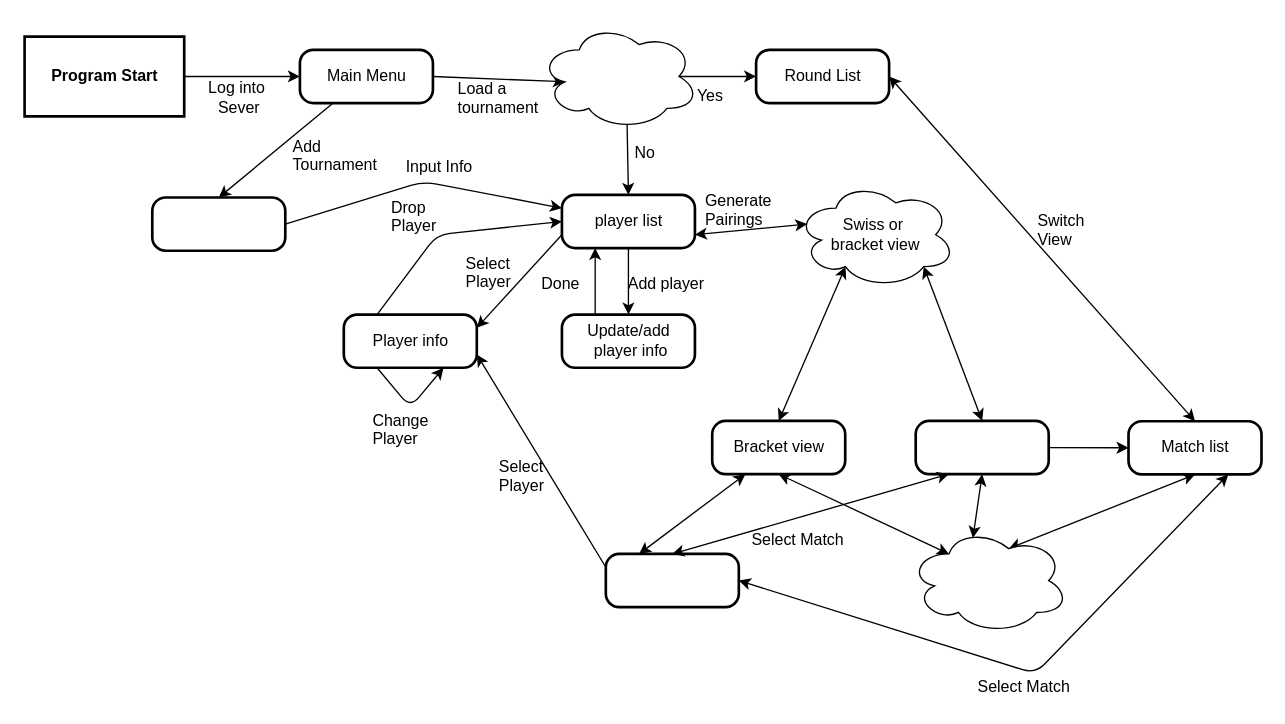
The diagram is 1285 pixels wide and 724 high, and some of its shapes have lost their labels. The box of each missing label's shape, as (x1, y1, x2, y2) in pixels:
Is the tournament Started?: (538, 22, 699, 130)
Match view: (604, 552, 739, 608)
New Tournament: (150, 196, 286, 251)
Swiss view: (914, 419, 1049, 475)
Update Results: (908, 526, 1069, 634)
